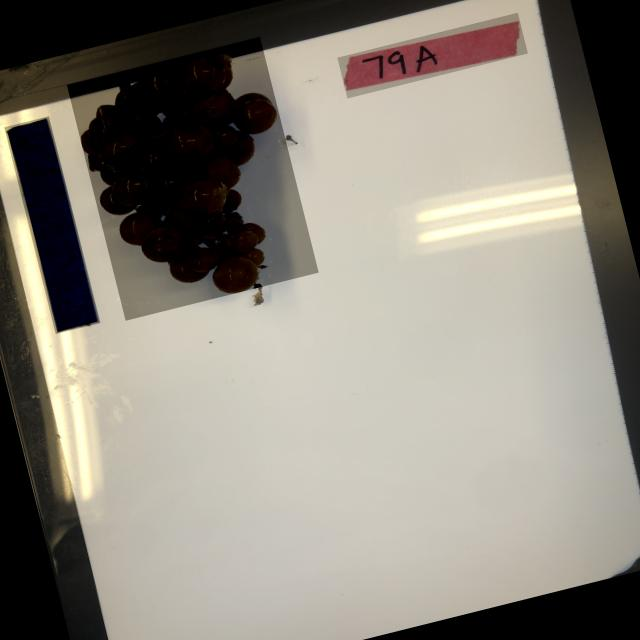grape_cluster: (66, 36, 318, 320)
index: (337, 12, 528, 98)
measure_label: (5, 115, 100, 334)
